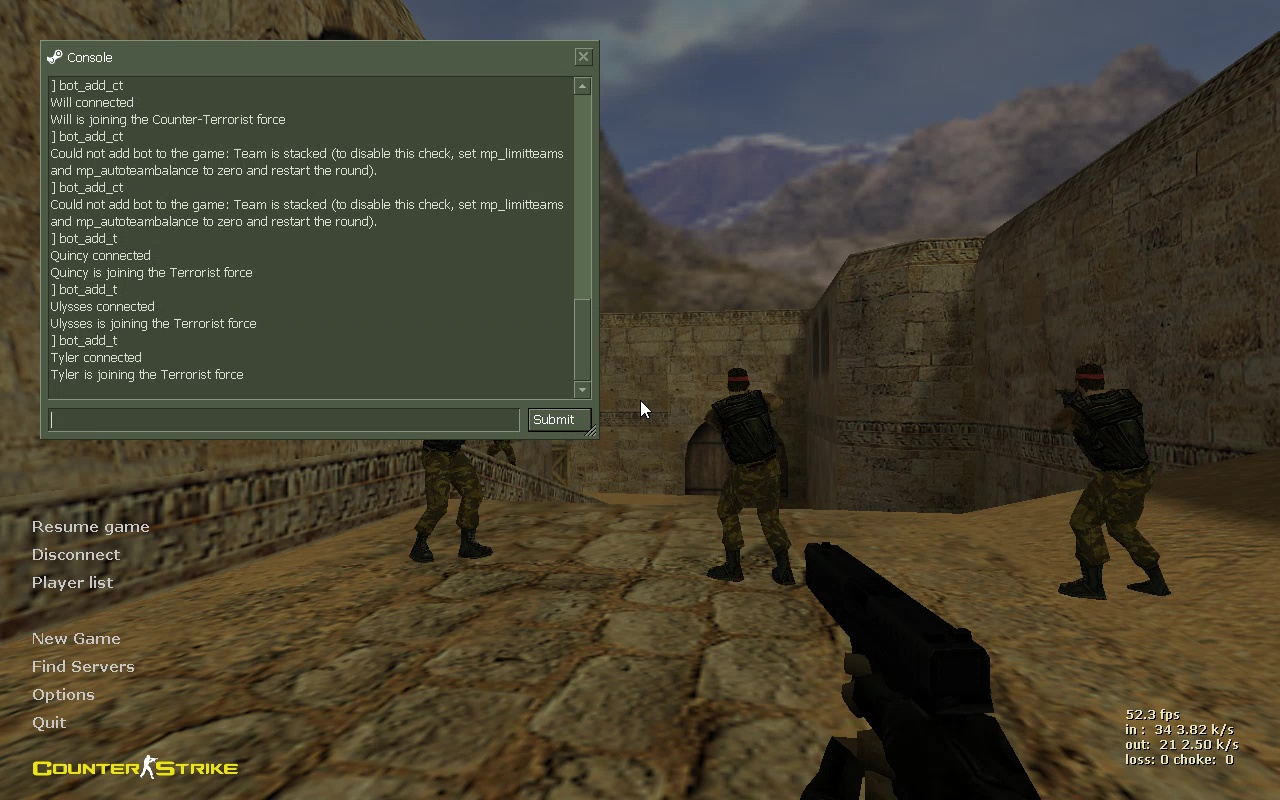terr1: (1051, 364, 1169, 601), (702, 367, 796, 582)
